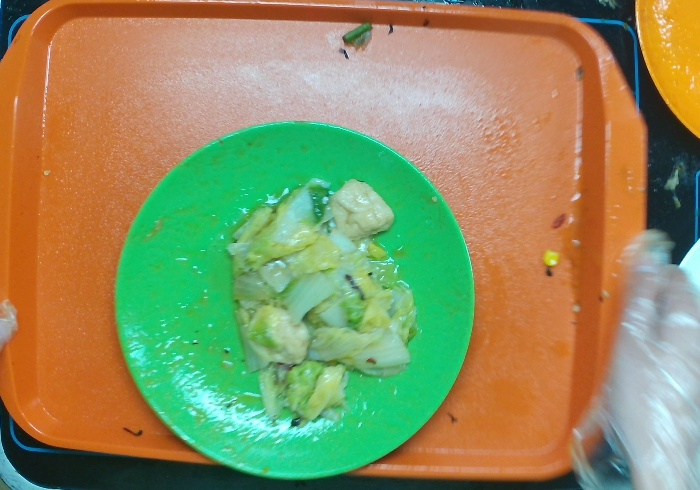HZYJPL-Lv_Se_Yuan_Pan: (119, 125, 479, 487)
